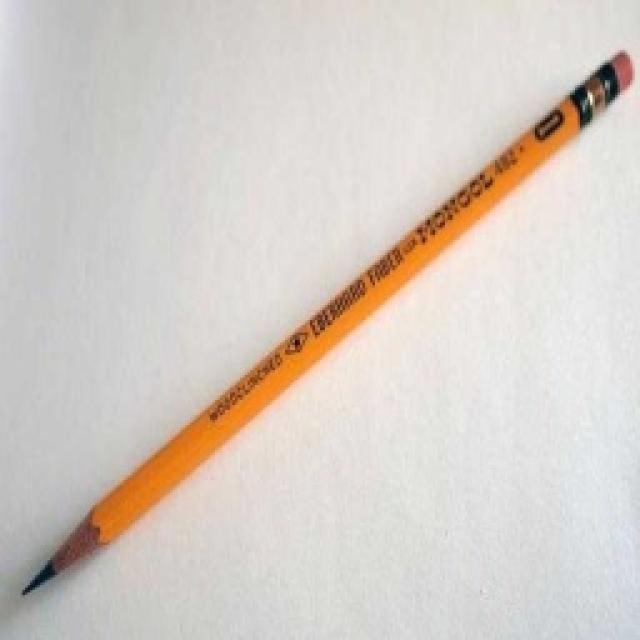pencil: (15, 42, 637, 600)
